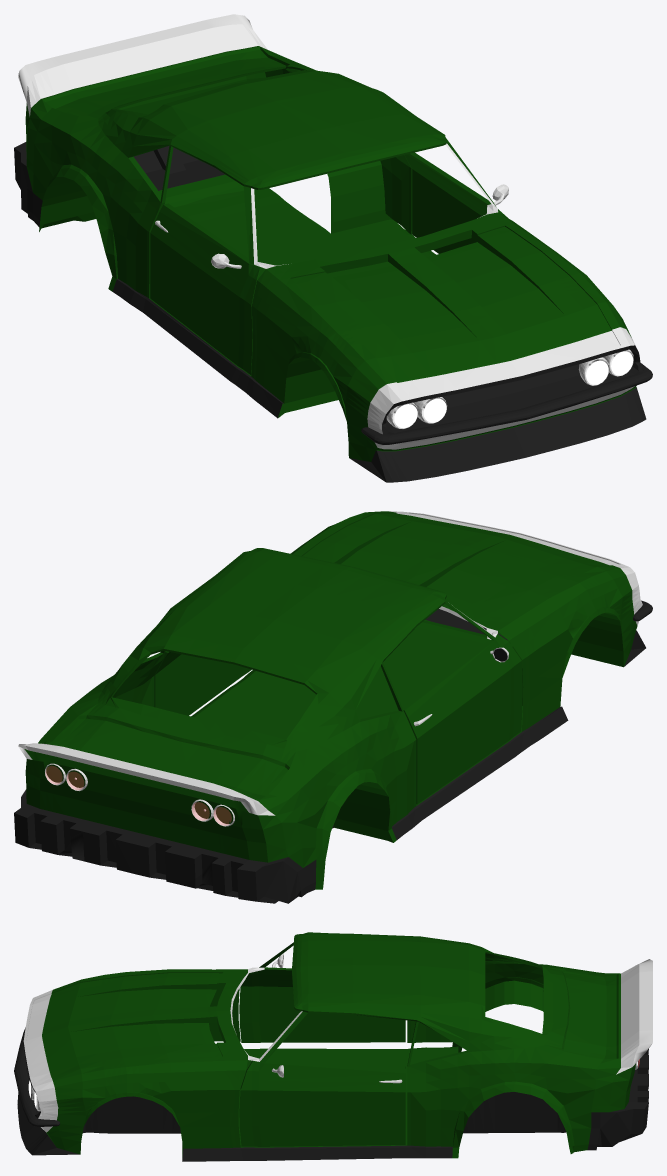
The model's file is Chero.body.glb.
The picture shows the model from 3 angles, top to bottom: view 1: azimuth 30°, elevation 25°; view 2: azimuth 150°, elevation 25°; view 3: azimuth 270°, elevation 25°; orthographic projection. The views are drawn at different scales.
Parts seen in each view (by area): view 1: aro.002; view 2: aro.002; view 3: aro.002.
Boxes of the visible parts, <box> form: aro.002: <box>14,14,652,482</box>; aro.002: <box>14,511,652,903</box>; aro.002: <box>14,932,652,1161</box>.
Bounding box in the file's own units: 2.46 × 1.38 × 5.72.
